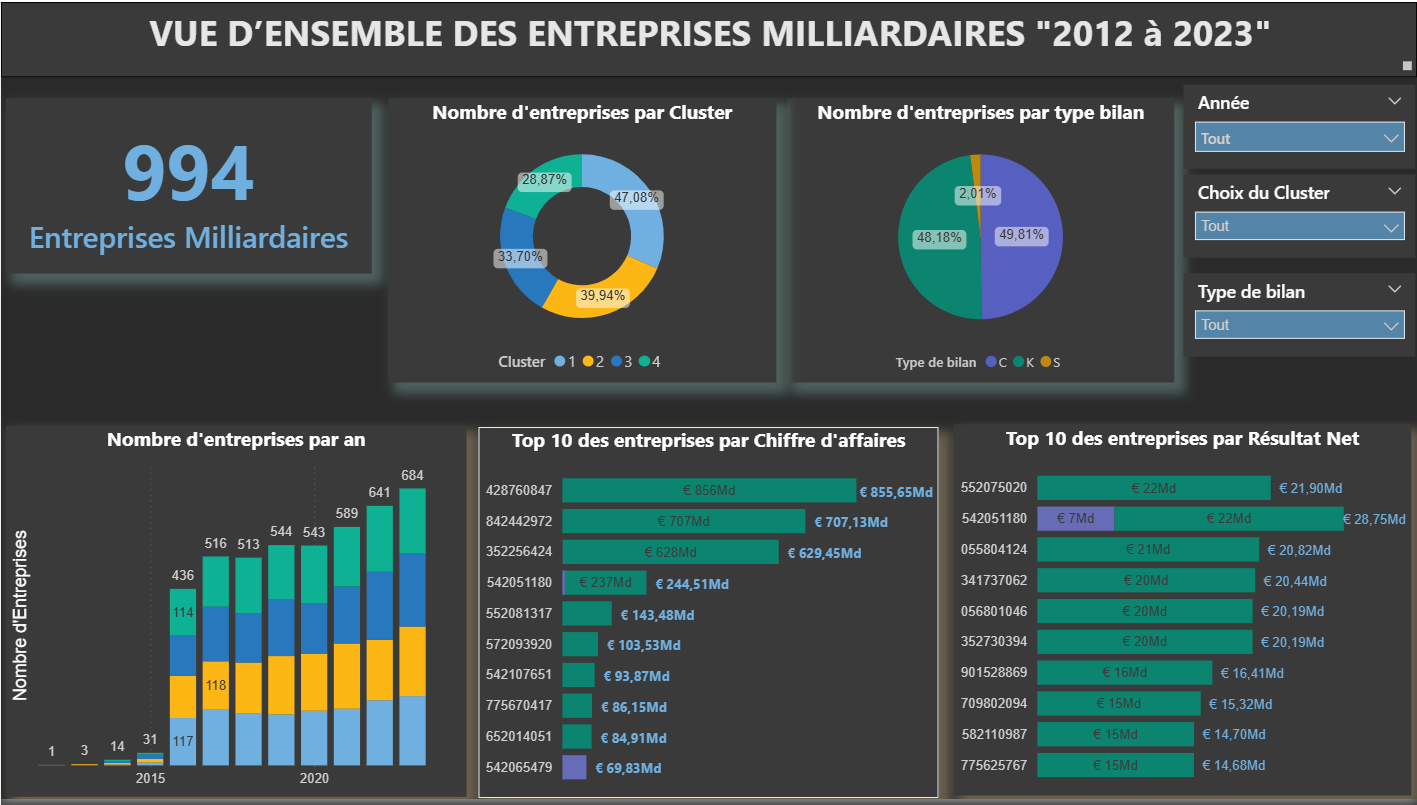

The page's visual inventory and layout, read from the dashboard file:
{"tool":"powerbi","page":{"name":"Vue d’ensemble des entreprises milliardaires","canvas":[1280,720],"ordinal":0},"visuals":[{"type":"textbox","title":" VUE D’ENSEMBLE DES ENTREPRISES MILLIARDAIRES \"2012 à 2023\"","box":[0,0,1280.3,67.6],"z":0},{"type":"card","title":"Nombre d''entrenprises Milliardaires","fields":{"Values":["entreprises_milliardaires.Nb_Entreprises_Milliardaires"]},"box":[4.9,87.1,330,158.3],"z":1000},{"type":"pieChart","title":"Nombre d''entreprises par type bilan","fields":{"Category":["public entreprises_milliardaires.type_bilan"],"Y":["entreprises_milliardaires.Nb_Entreprises_Milliardaires"]},"box":[710.4,87.1,349.7,256.4],"z":2000},{"type":"columnChart","title":"Nombre d''entreprises par an","fields":{"Category":["public entreprises_milliardaires.annee"],"Series":["public entreprises_milliardaires.cluster_ca"],"Y":["entreprises_milliardaires.Nb_Entreprises_Milliardaires"]},"box":[5,382.8,416,335],"z":3000},{"type":"donutChart","title":"Nombre d''entreprises par Cluster","fields":{"Category":["public entreprises_milliardaires.cluster_ca"],"Y":["CountNonNull(entreprises_milliardaires.siren)"]},"box":[349.7,87.1,350,256.4],"z":4000},{"type":"barChart","title":"Top 10 des entreprises par Chiffre d''affaires","fields":{"Category":["public entreprises_milliardaires.siren"],"Y":["Max(entreprises_milliardaires.chiffre_d_affaires)"],"Series":["entreprises_milliardaires.type_bilan"]},"box":[431,384.1,416,335],"z":5000},{"type":"barChart","title":"Top 10 des entreprises par Résultat Net","fields":{"Category":["public entreprises_milliardaires.siren"],"Y":["Max(entreprises_milliardaires.resultat_net)"],"Series":["entreprises_milliardaires.type_bilan"]},"box":[860.9,382.2,413.9,335.2],"z":6000},{"type":"slicer","fields":{"Values":["public entreprises_milliardaires.annee"]},"box":[1067.8,74.5,210,75.9],"z":7000},{"type":"slicer","fields":{"Values":["public entreprises_milliardaires.cluster_ca"]},"box":[1067.8,155.9,210,75],"z":8000},{"type":"slicer","fields":{"Values":["public entreprises_milliardaires.type_bilan"]},"box":[1067.8,245.6,210,75],"z":9000}]}

Visuals, with their boxes in screenshot pixels (x1, y1, x2, y2), scaled from the page's 1280x720 canvas onto the 1417x805 screenshot:
" VUE D’ENSEMBLE DES ENTREPRISES MILLIARDAIRES "2012 à 2023"" textbox: bbox(0, 0, 1416, 76)
"Nombre d''entrenprises Milliardaires" card: bbox(5, 97, 371, 274)
"Nombre d''entreprises par type bilan" pieChart: bbox(786, 97, 1174, 384)
"Nombre d''entreprises par an" columnChart: bbox(6, 428, 466, 803)
"Nombre d''entreprises par Cluster" donutChart: bbox(387, 97, 775, 384)
"Top 10 des entreprises par Chiffre d''affaires" barChart: bbox(477, 429, 938, 804)
"Top 10 des entreprises par Résultat Net" barChart: bbox(953, 427, 1411, 802)
slicer - public entreprises_milliardaires.annee: bbox(1182, 83, 1415, 168)
slicer - public entreprises_milliardaires.cluster_ca: bbox(1182, 174, 1415, 258)
slicer - public entreprises_milliardaires.type_bilan: bbox(1182, 275, 1415, 358)
